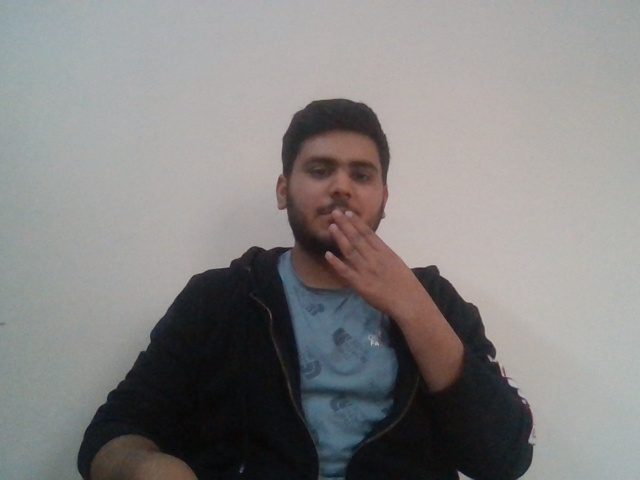Thanks: (313, 202, 432, 312)
